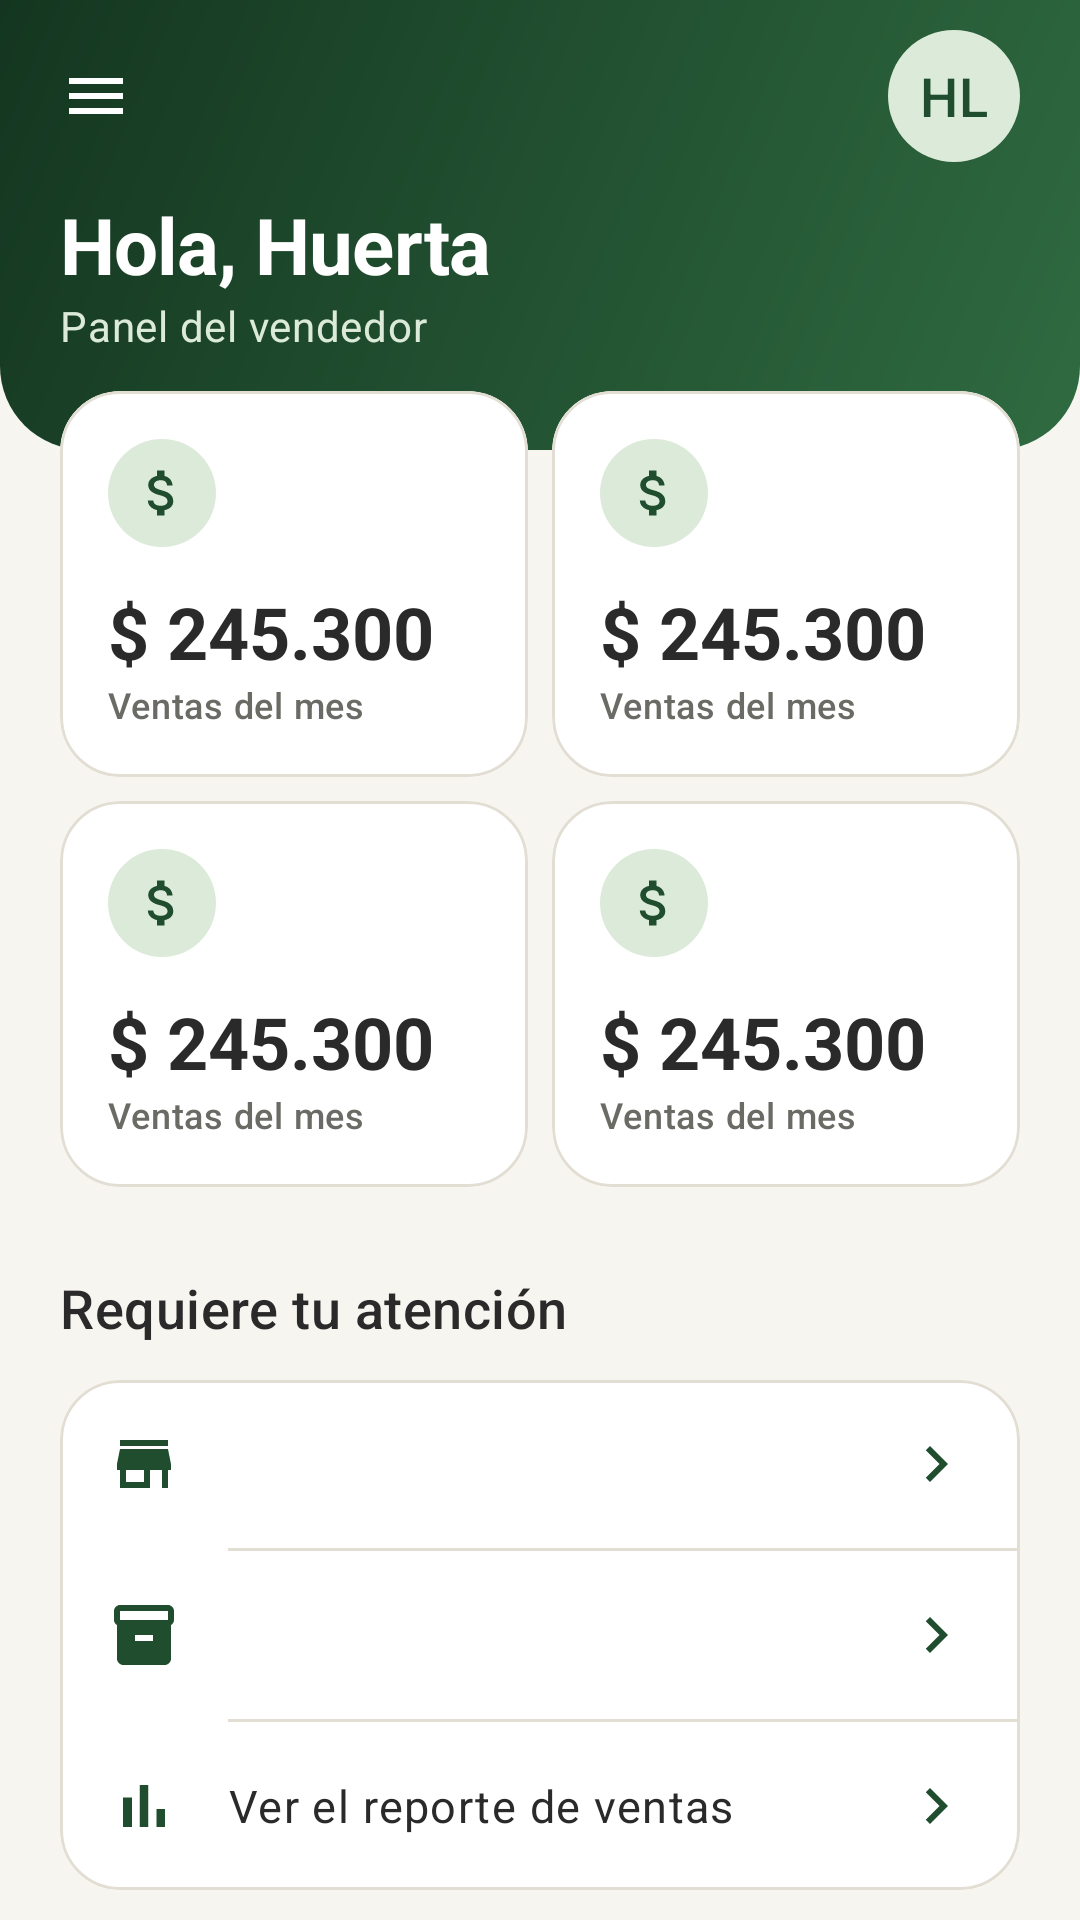

Locate icon controls on the screen. Image size 1080*1920, boxes as (x1, y1, x2, y2).
Abrir menú: (69, 78, 123, 114)
